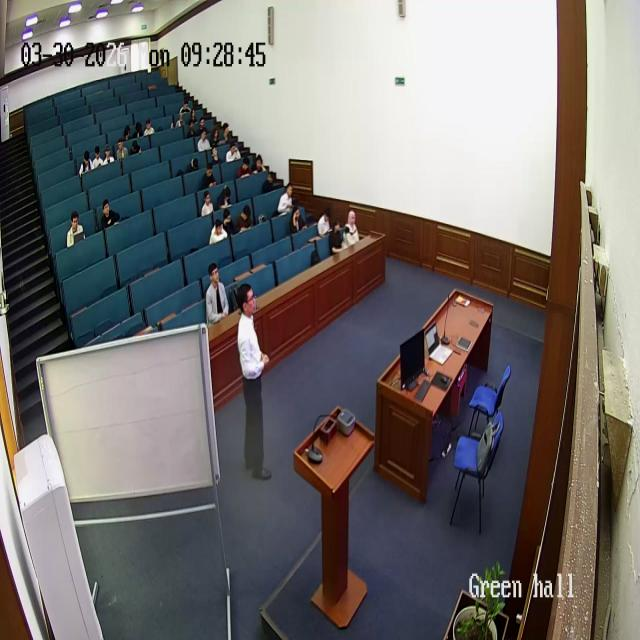person: (236, 284, 274, 480), (204, 264, 230, 328), (215, 180, 236, 217), (342, 209, 360, 250), (66, 212, 85, 248), (99, 199, 121, 230), (210, 212, 228, 244), (277, 182, 295, 214), (329, 221, 345, 255), (235, 204, 253, 234), (290, 204, 306, 236), (236, 152, 254, 180), (250, 149, 267, 178), (76, 150, 94, 176), (200, 163, 216, 187), (201, 191, 215, 218), (317, 209, 331, 236), (208, 124, 222, 148), (185, 156, 201, 175), (219, 122, 231, 147), (209, 143, 223, 164), (94, 144, 105, 170), (115, 136, 126, 162), (196, 132, 209, 154), (118, 123, 132, 142), (104, 140, 114, 166), (228, 143, 240, 161), (144, 116, 154, 136), (175, 112, 186, 128), (185, 123, 196, 138), (134, 120, 144, 136), (188, 107, 196, 127), (130, 140, 141, 154), (179, 95, 187, 114), (198, 115, 204, 135)
